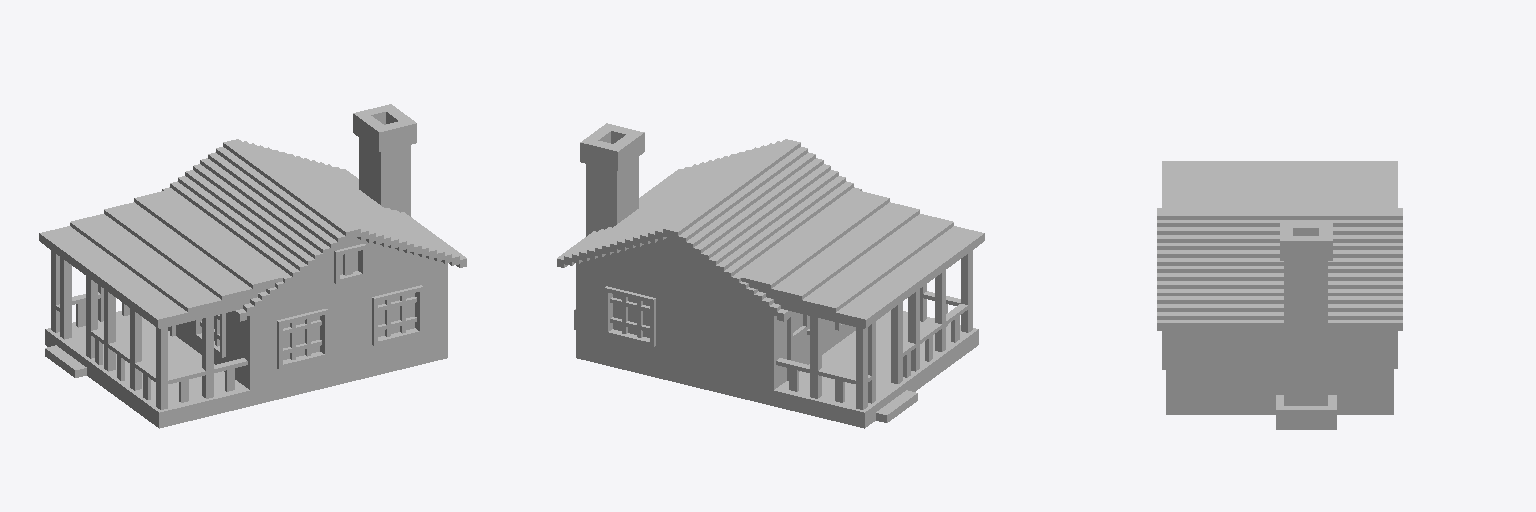
Rendered from House.obj.
3 views of the same model, side by side, from view 1: azimuth 30°, elevation 25°; view 2: azimuth 150°, elevation 25°; view 3: azimuth 270°, elevation 25° (orthographic).
Visible parts, largest first — view 1: House; view 2: House; view 3: House.
Part boxes in pixels (x1,y1,x2,y2): House: (39, 104, 466, 428); House: (557, 123, 984, 428); House: (1157, 161, 1402, 429).
Bounding box in the file's own units: 87 × 47 × 56.